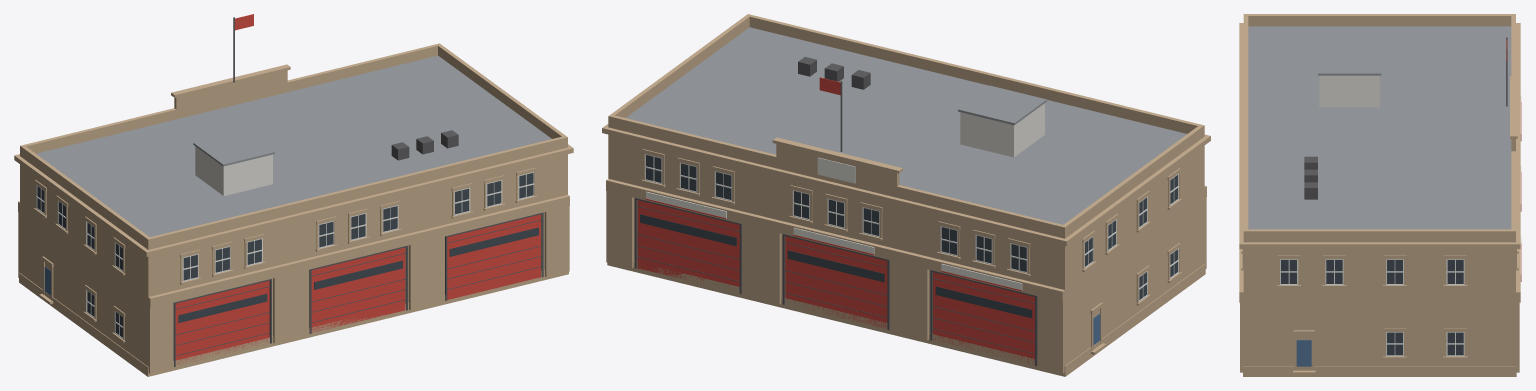
Rendered from fire_station.glb.
3 views of the same model, side by side, from view 1: azimuth 30°, elevation 25°; view 2: azimuth 150°, elevation 25°; view 3: azimuth 270°, elevation 25° (orthographic). The views are drawn at different scales.
Parts seen in each view (by area): view 1: fire_station; view 2: fire_station; view 3: fire_station.
Part boxes in pixels (x1,y1,x2,y2): fire_station: (14,14,573,376); fire_station: (602,14,1210,376); fire_station: (1239,14,1521,376).
Size of the model in its own units: 34.64 by 16.8 by 18.68.
